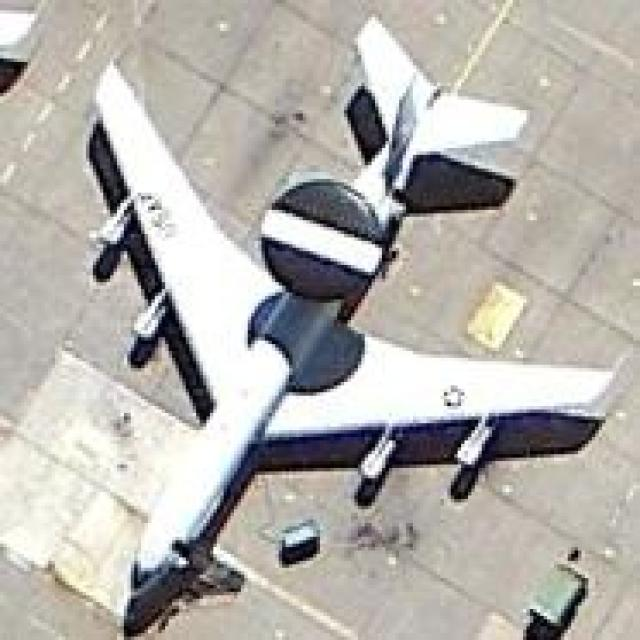E-3_TopDown: (69, 14, 626, 636)
